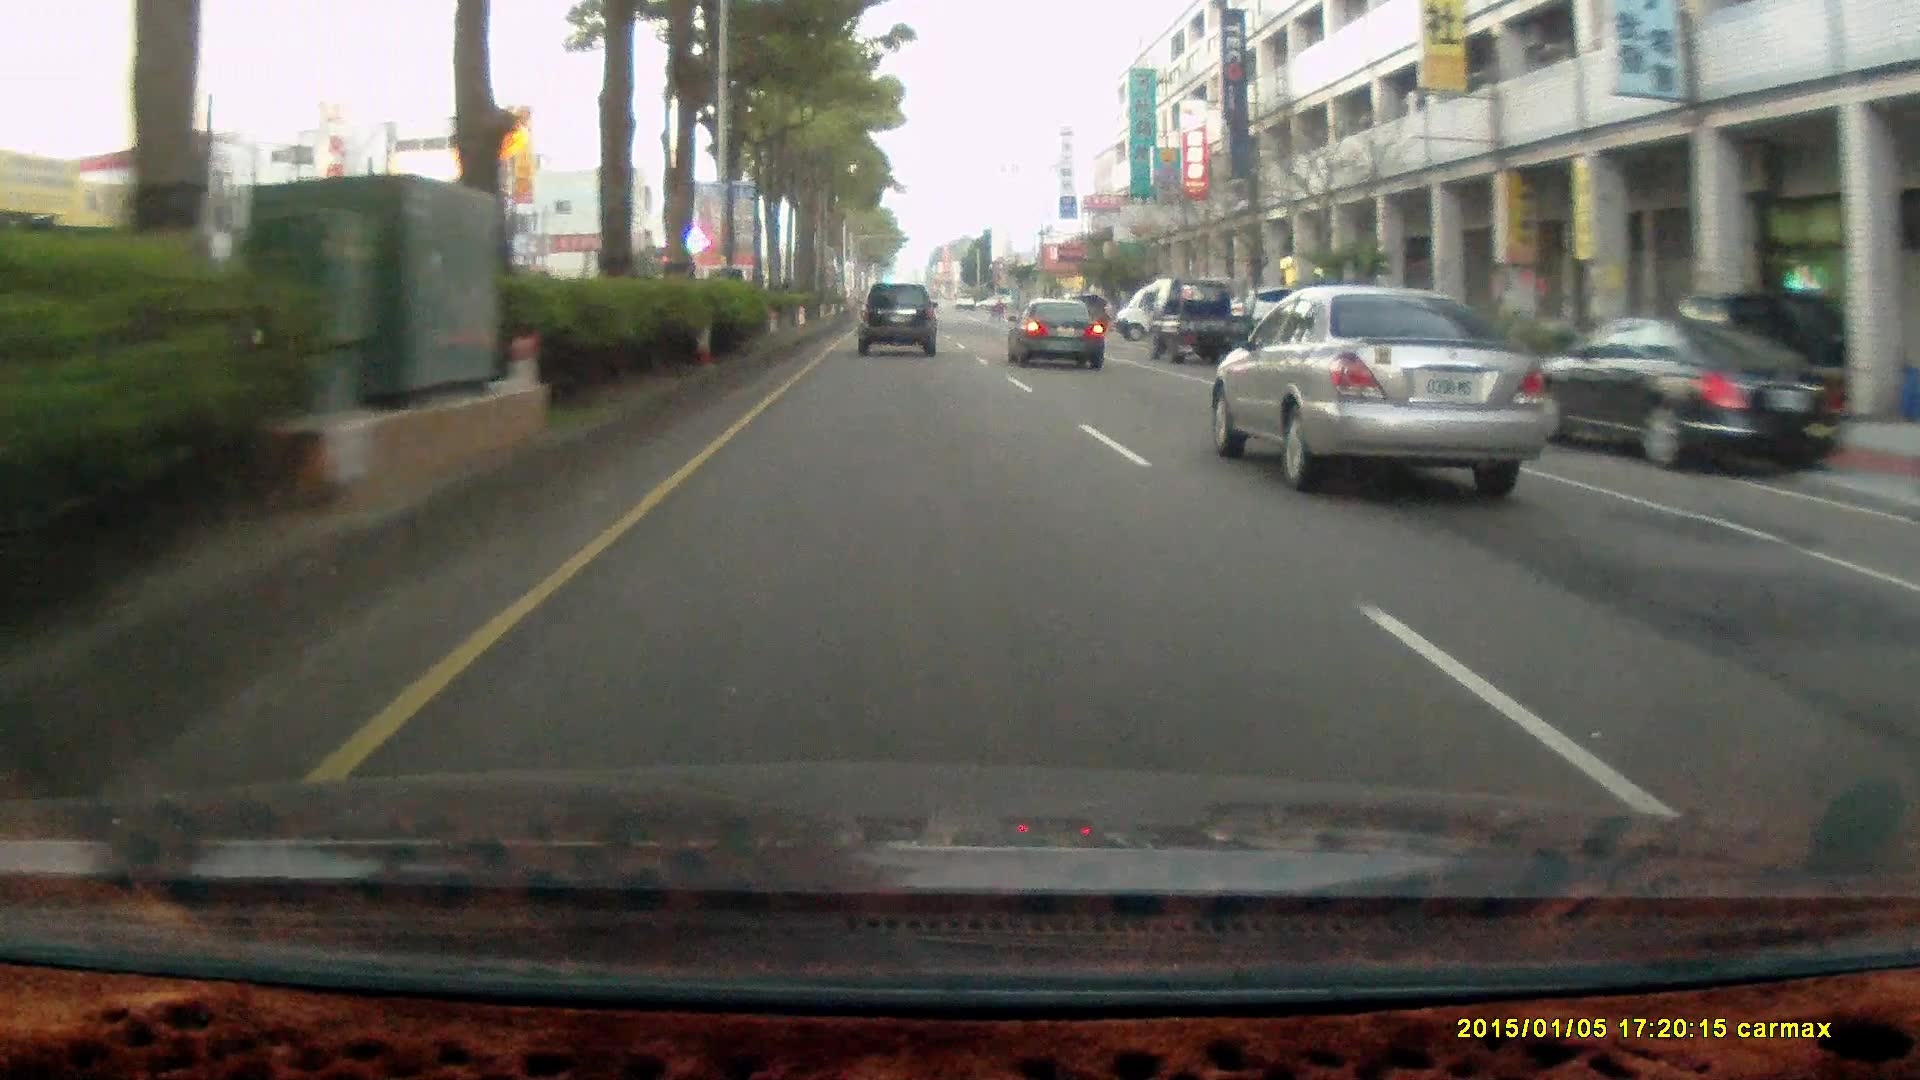vehicle: (1204, 287, 1540, 488), (1528, 306, 1847, 477), (1523, 311, 1847, 473), (1254, 301, 1396, 388), (1155, 278, 1262, 375), (1147, 277, 1247, 363), (1005, 297, 1108, 375), (1112, 276, 1232, 342), (1004, 294, 1101, 367), (857, 284, 940, 357), (856, 284, 938, 356)
